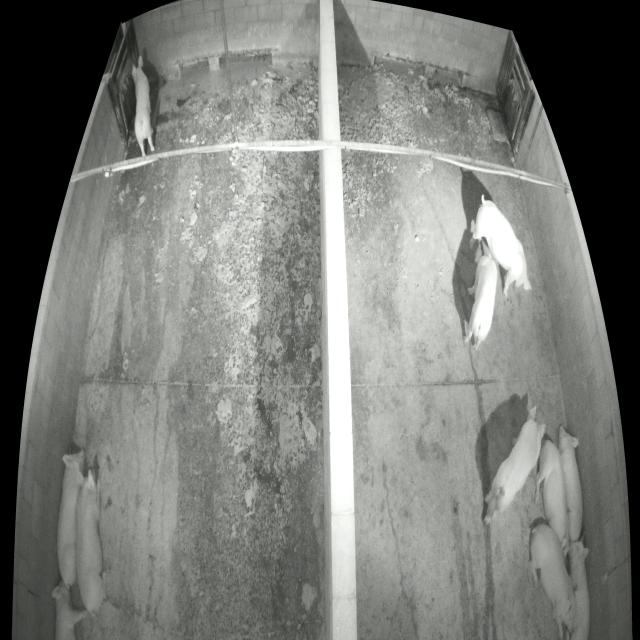pig: (484, 407, 545, 527), (469, 201, 533, 297), (529, 526, 576, 639), (75, 471, 106, 612), (534, 440, 570, 558), (56, 449, 85, 588), (462, 244, 496, 351), (558, 424, 584, 539), (566, 533, 592, 638), (132, 54, 156, 155), (51, 582, 87, 639)
